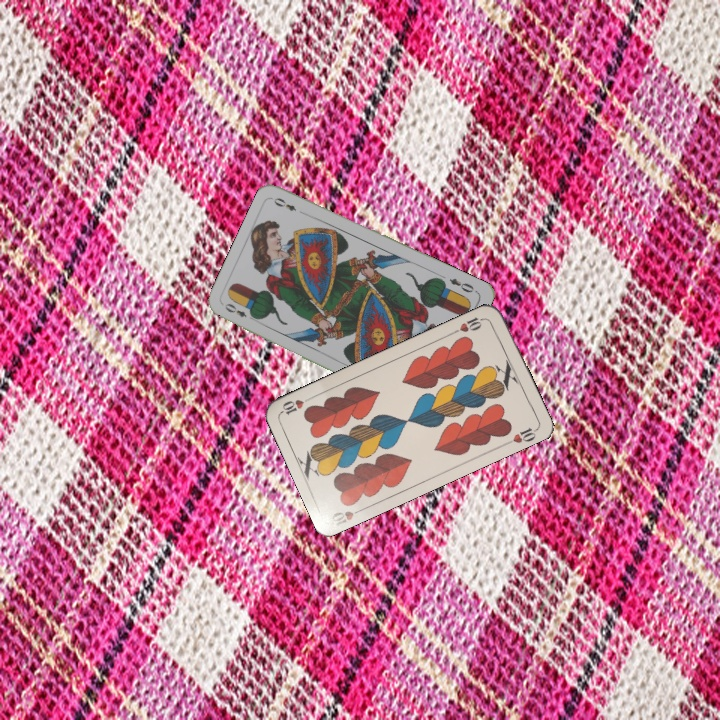EO: (220, 299, 258, 324), (445, 274, 480, 295)
H10: (328, 504, 367, 528), (450, 313, 488, 336)
